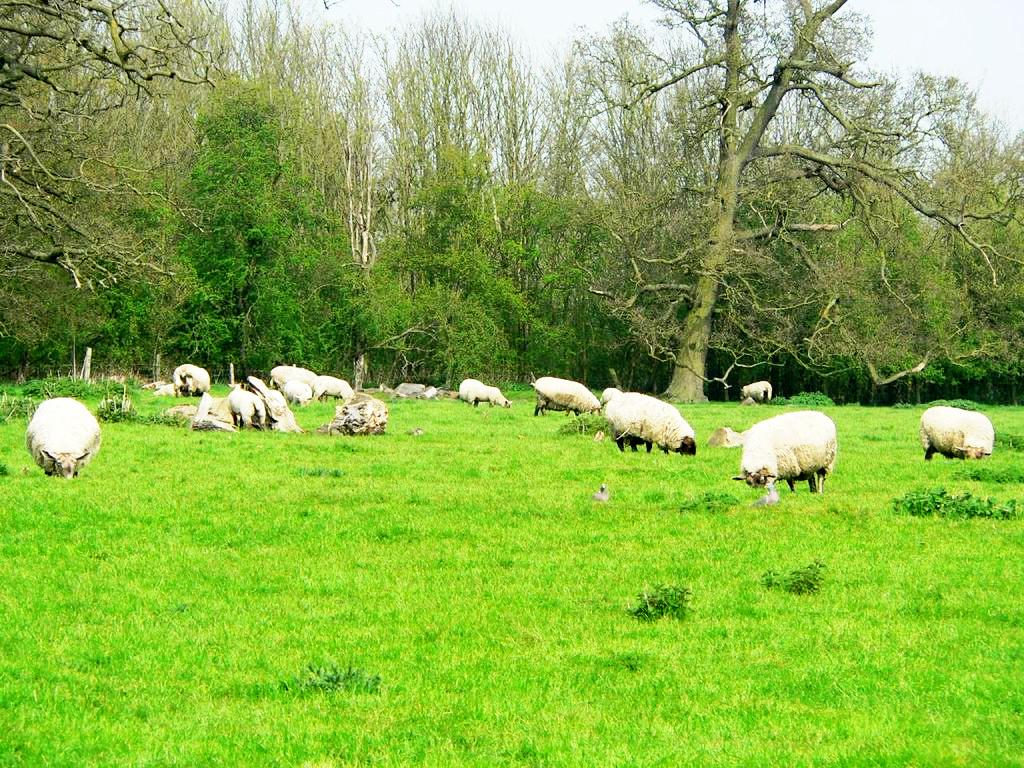Sheep: (728, 414, 860, 500), (592, 384, 701, 462), (28, 395, 108, 480), (918, 404, 995, 464), (528, 376, 601, 417), (224, 383, 269, 432), (171, 362, 213, 399), (268, 364, 320, 393), (309, 374, 357, 404), (466, 382, 511, 411), (736, 380, 776, 405), (281, 379, 314, 407)
